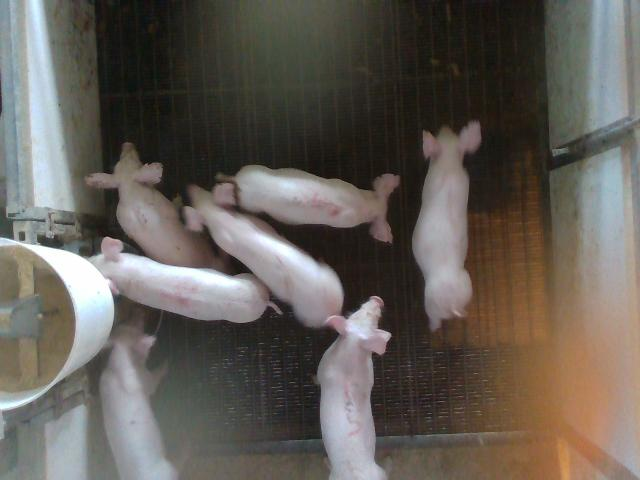pig-3: (318, 296, 391, 479)
pig-4: (89, 238, 280, 322)
pig-5: (218, 165, 400, 241)
